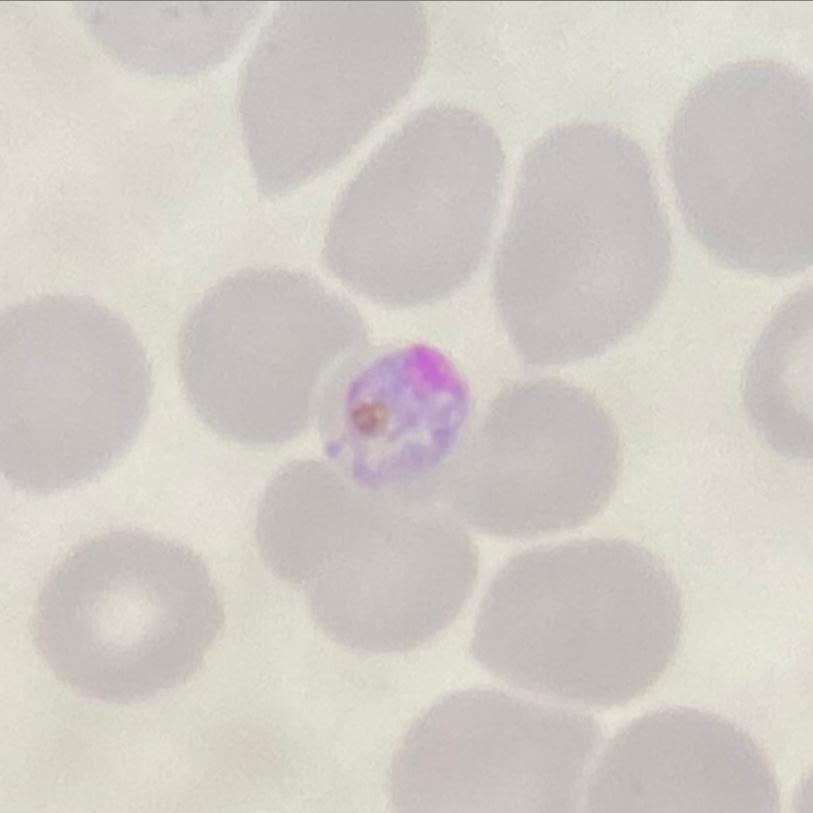Infected: (326, 342, 477, 485)
Uninfected: (482, 127, 678, 369), (255, 457, 481, 648), (240, 0, 430, 196), (327, 102, 506, 310), (173, 264, 372, 450), (470, 536, 681, 704), (37, 531, 229, 701), (662, 61, 813, 275), (0, 292, 150, 488), (457, 384, 622, 535)
